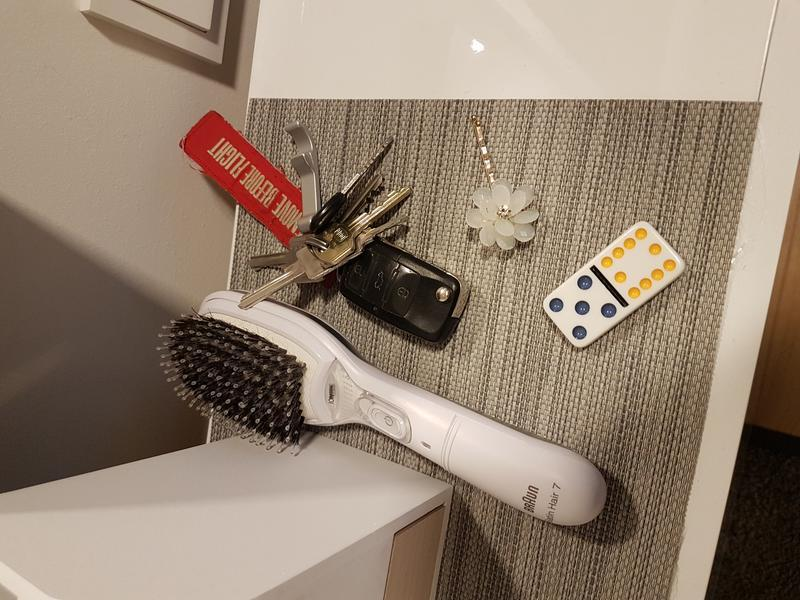Domino: (543, 220, 686, 350)
